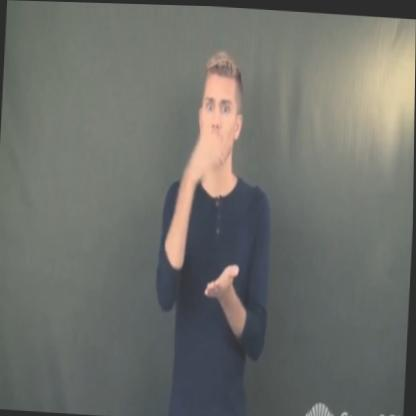Expensive: (156, 116, 262, 326)
